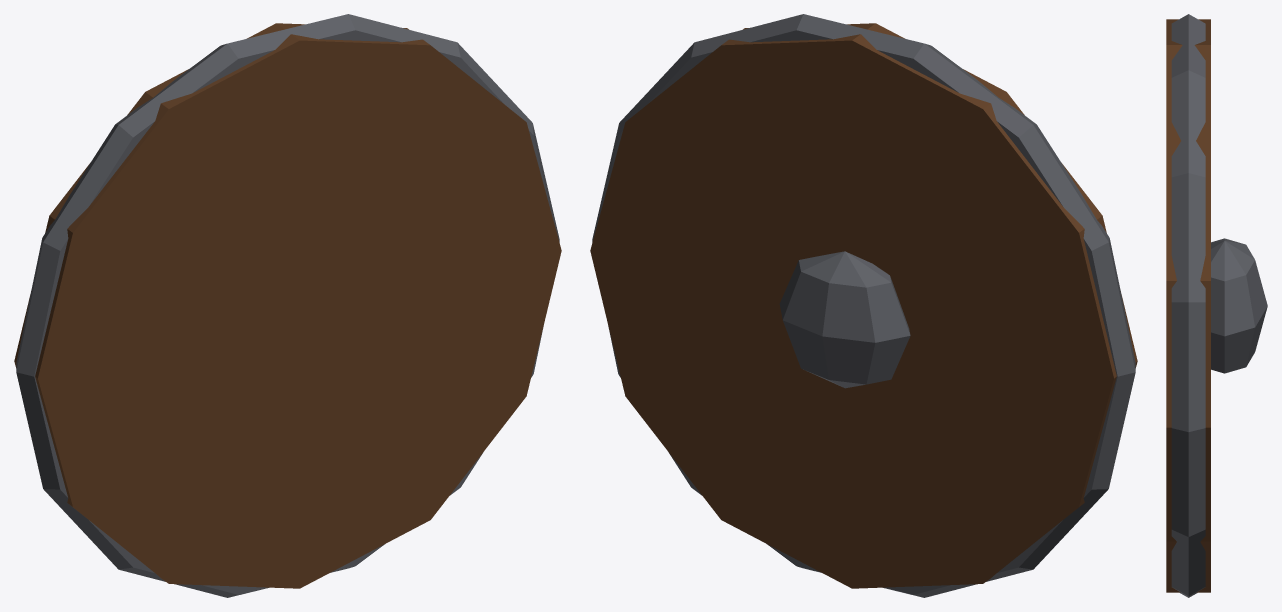
Rendered from shield_round.glb.
3 views of the same model, side by side, from view 1: azimuth 30°, elevation 25°; view 2: azimuth 150°, elevation 25°; view 3: azimuth 270°, elevation 25° (orthographic). The views are drawn at different scales.
Visible parts, largest first — view 1: shield_round; view 2: shield_round; view 3: shield_round.
Boxes of the visible parts, x1,y1,x2,y2 form: shield_round: [14, 14, 561, 597]; shield_round: [590, 14, 1137, 597]; shield_round: [1166, 14, 1267, 597].
Bounding box in the file's own units: 0.664 × 0.6474 × 0.113.
